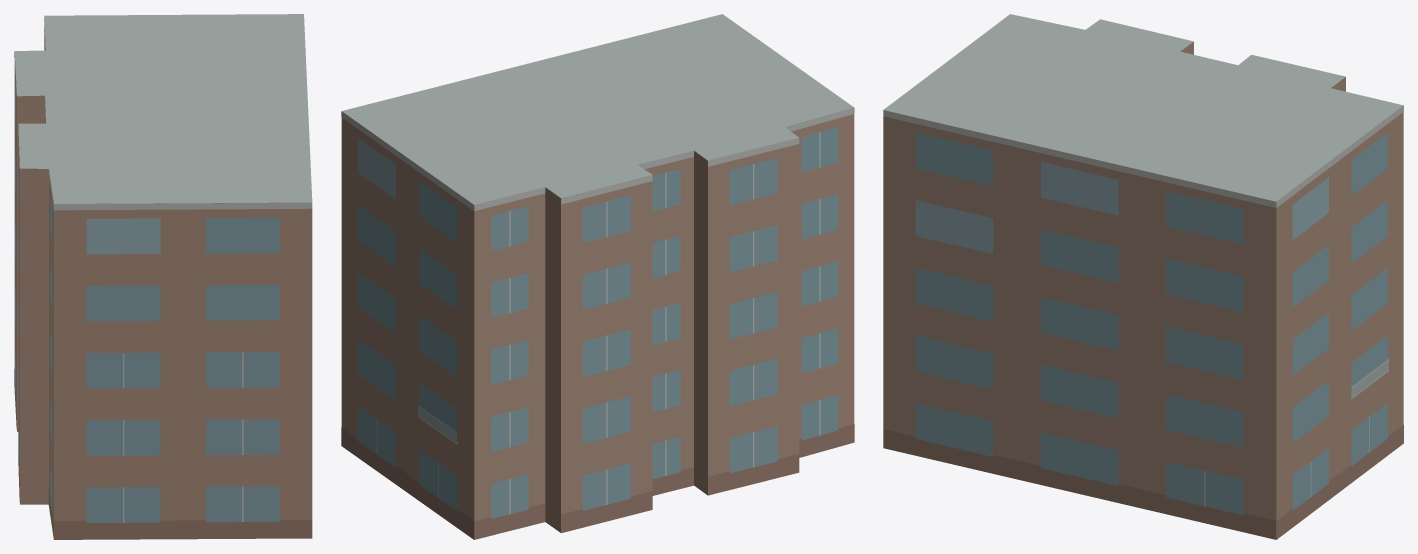
The model's file is survey-upis-32870626.glb.
The picture shows the model from 3 angles, left to right: view 1: azimuth 30°, elevation 25°; view 2: azimuth 150°, elevation 25°; view 3: azimuth 270°, elevation 25°; orthographic projection.
Parts seen in each view (by area): view 1: survey-upis-32870626.tmp; view 2: survey-upis-32870626.tmp; view 3: survey-upis-32870626.tmp.
Boxes of the visible parts, x1=… form: survey-upis-32870626.tmp: x1=14, y1=14, x2=312, y2=539; survey-upis-32870626.tmp: x1=341, y1=14, x2=854, y2=539; survey-upis-32870626.tmp: x1=883, y1=14, x2=1403, y2=539.
Size of the model in its own units: 15.61 by 13.1 by 18.29.
